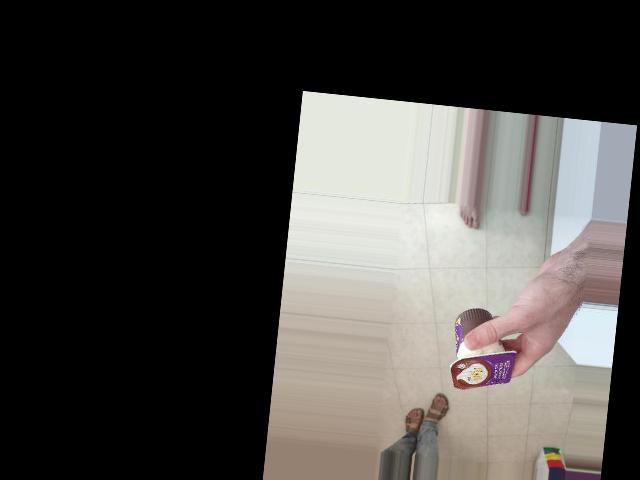milky: (414, 323, 505, 394)
